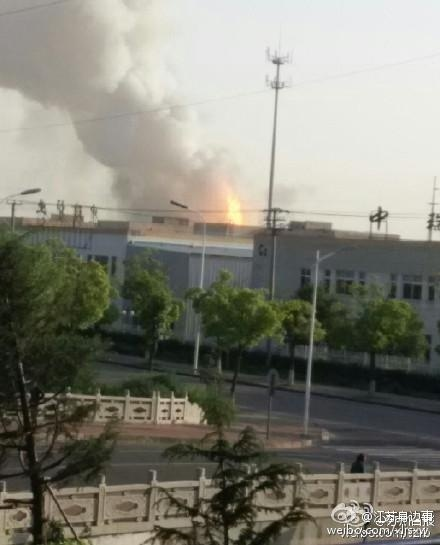fire: (221, 189, 242, 226)
